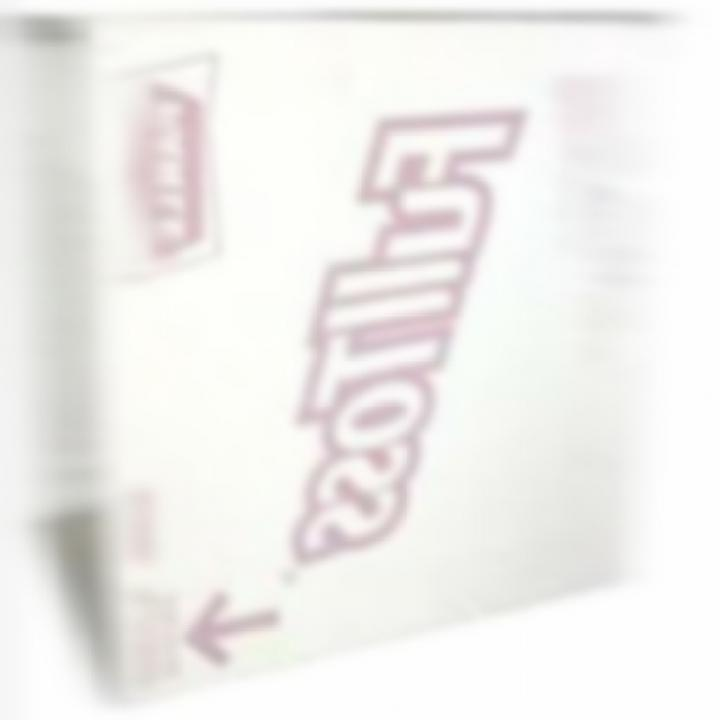package: (9, 0, 638, 703)
